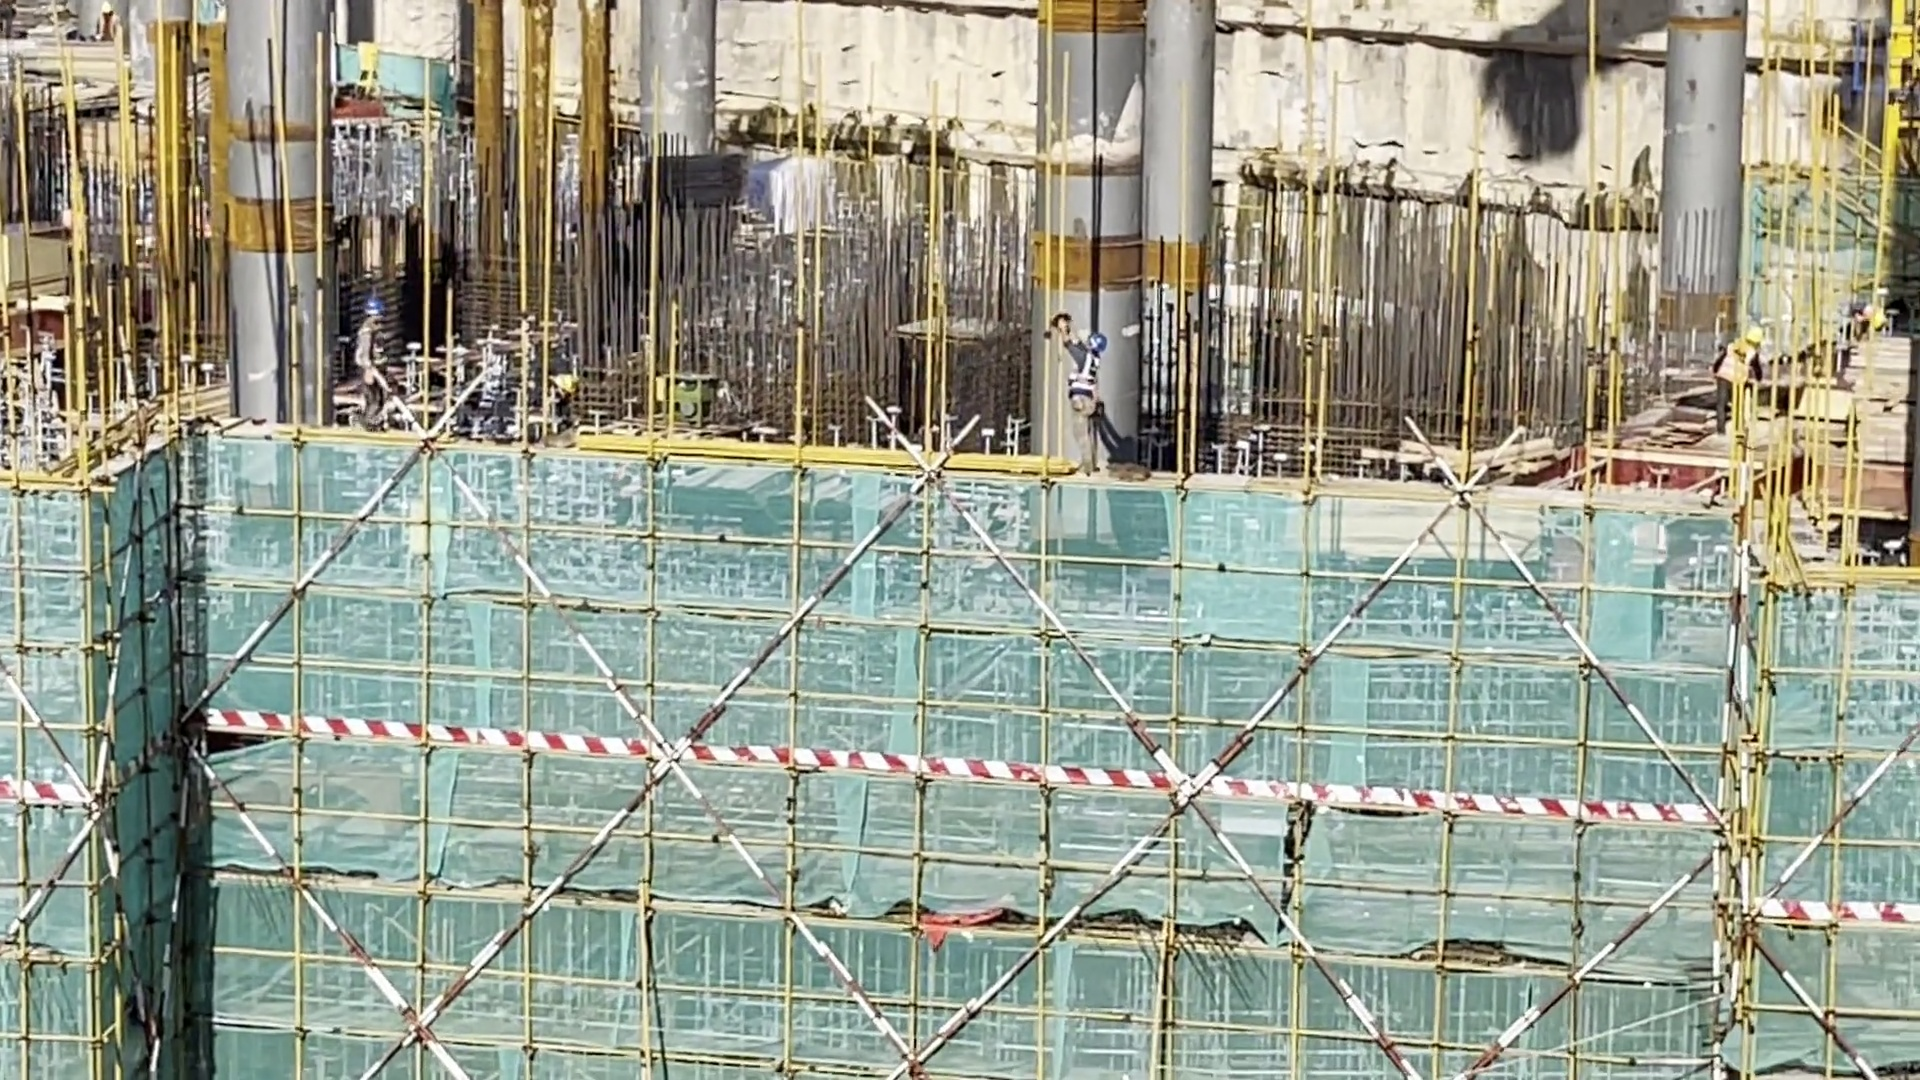board: (1833, 332, 1920, 479), (3, 219, 86, 289)
ebox: (356, 41, 394, 74)
helmet: (1088, 334, 1116, 357), (356, 292, 386, 312), (546, 372, 578, 391), (1744, 325, 1773, 340), (1841, 301, 1862, 316), (103, 1, 114, 16)
person: (1044, 311, 1118, 470), (344, 293, 401, 426), (1709, 325, 1759, 426), (1838, 293, 1886, 381), (544, 363, 581, 428), (100, 1, 126, 46)
vest: (351, 321, 394, 377), (1059, 359, 1099, 404), (1716, 351, 1749, 383), (1874, 309, 1894, 334), (97, 16, 121, 36)
